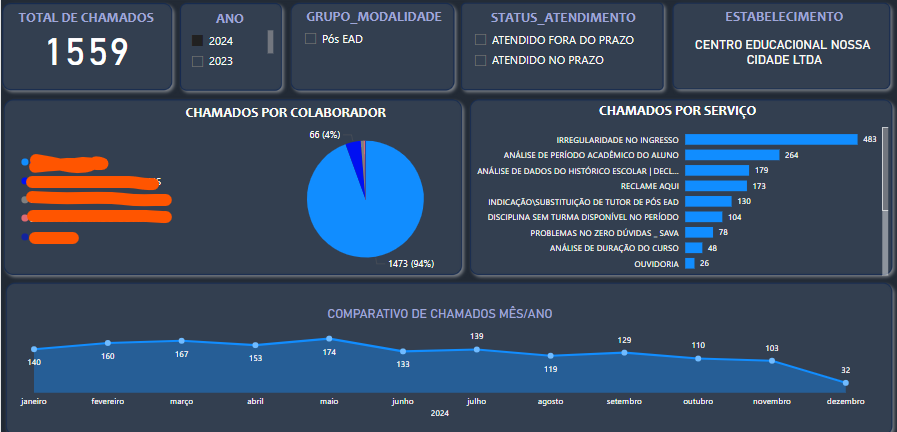

The dashboard page shown, as its layout file describes it:
{"tool":"powerbi","page":{"name":"CHAMADOS CONCLUÍDOS","canvas":[1280,720],"ordinal":1},"visuals":[{"type":"card","title":"TOTAL DE CHAMADOS","fields":{"Values":["Concluido.Chamado"]},"box":[5.8,94,231.8,85],"z":0},{"type":"slicer","title":"ANO","fields":{"Values":["Concluido.Ano"]},"box":[260.6,95.4,133.9,96.5],"z":1000},{"type":"barChart","title":"CHAMADOS POR SERVIÇO","fields":{"Category":["Concluido.Serviço"],"Y":["Concluido.Chamado"]},"box":[661,227.5,610.6,253.4],"z":2000},{"type":"pieChart","title":"CHAMADOS POR COLABORADOR","fields":{"Category":["Concluido.Responsável"],"Y":["Concluido.Chamado"]},"box":[23,230.4,767.5,247.7],"z":3000},{"type":"actionButton","box":[0,0,100,40],"z":4000},{"type":"slicer","title":"GRUPO_MODALIDADE","fields":{"Values":["Concluido.Grupo responsável"]},"box":[421.9,92.2,223.2,118.1],"z":5000},{"type":"slicer","title":"STATUS_ATENDIMENTO","fields":{"Values":["Concluido.Status Atendimento"]},"box":[663.8,93.6,277.9,118.1],"z":6000},{"type":"card","title":"ESTABELECIMENTO","fields":{"Values":["Concluido.Estabelecimento - Cliente - Nome Fantasia"]},"box":[970.6,92.2,298.1,102.2],"z":7000},{"type":"lineChart","title":"COMPARATIVO DE CHAMADOS MÊS/ANO","fields":{"Y":["Concluido.Chamado"],"Category":["Concluido.Data de Fechamento.Variation.Hierarquia de datas.Ano","Concluido.Data de Fechamento.Variation.Hierarquia de datas.Mês"]},"box":[0,518.3,1254,175],"z":8000}]}

Visuals, with their boxes on the page's 1280x720 design canvas (x1, y1, x2, y2). These are canvas units, not pixel positions in the 897x432 screenshot, which may show the page scaled, cropped or inside an application window:
"TOTAL DE CHAMADOS" card: {"x1": 6, "y1": 94, "x2": 238, "y2": 179}
"ANO" slicer: {"x1": 261, "y1": 95, "x2": 394, "y2": 192}
"CHAMADOS POR SERVIÇO" barChart: {"x1": 661, "y1": 228, "x2": 1272, "y2": 481}
"CHAMADOS POR COLABORADOR" pieChart: {"x1": 23, "y1": 230, "x2": 790, "y2": 478}
actionButton: {"x1": 0, "y1": 0, "x2": 100, "y2": 40}
"GRUPO_MODALIDADE" slicer: {"x1": 422, "y1": 92, "x2": 645, "y2": 210}
"STATUS_ATENDIMENTO" slicer: {"x1": 664, "y1": 94, "x2": 942, "y2": 212}
"ESTABELECIMENTO" card: {"x1": 971, "y1": 92, "x2": 1269, "y2": 194}
"COMPARATIVO DE CHAMADOS MÊS/ANO" lineChart: {"x1": 0, "y1": 518, "x2": 1254, "y2": 693}
